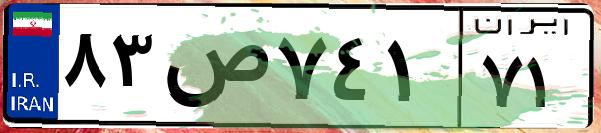1: (385, 28, 445, 110), (525, 38, 570, 115)
3: (110, 28, 158, 98)
4: (330, 28, 385, 110)
7: (270, 28, 330, 110), (475, 38, 525, 113)
8: (57, 26, 110, 100)
ص: (158, 20, 270, 120)
